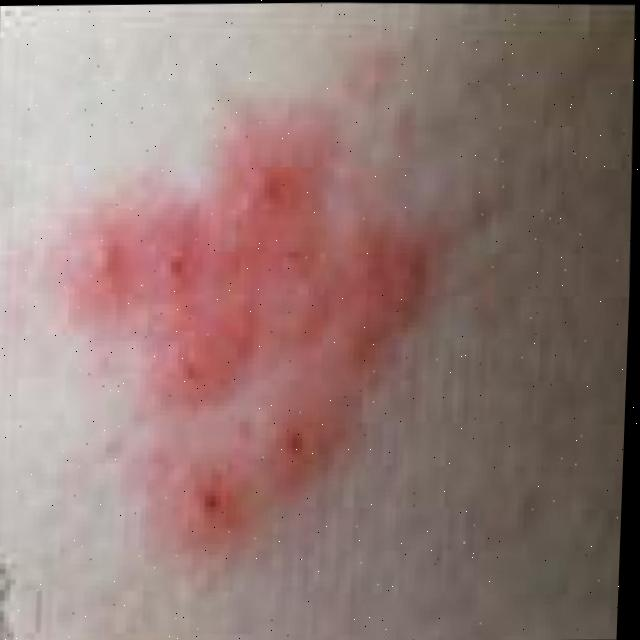Shingles: (65, 131, 452, 527)
